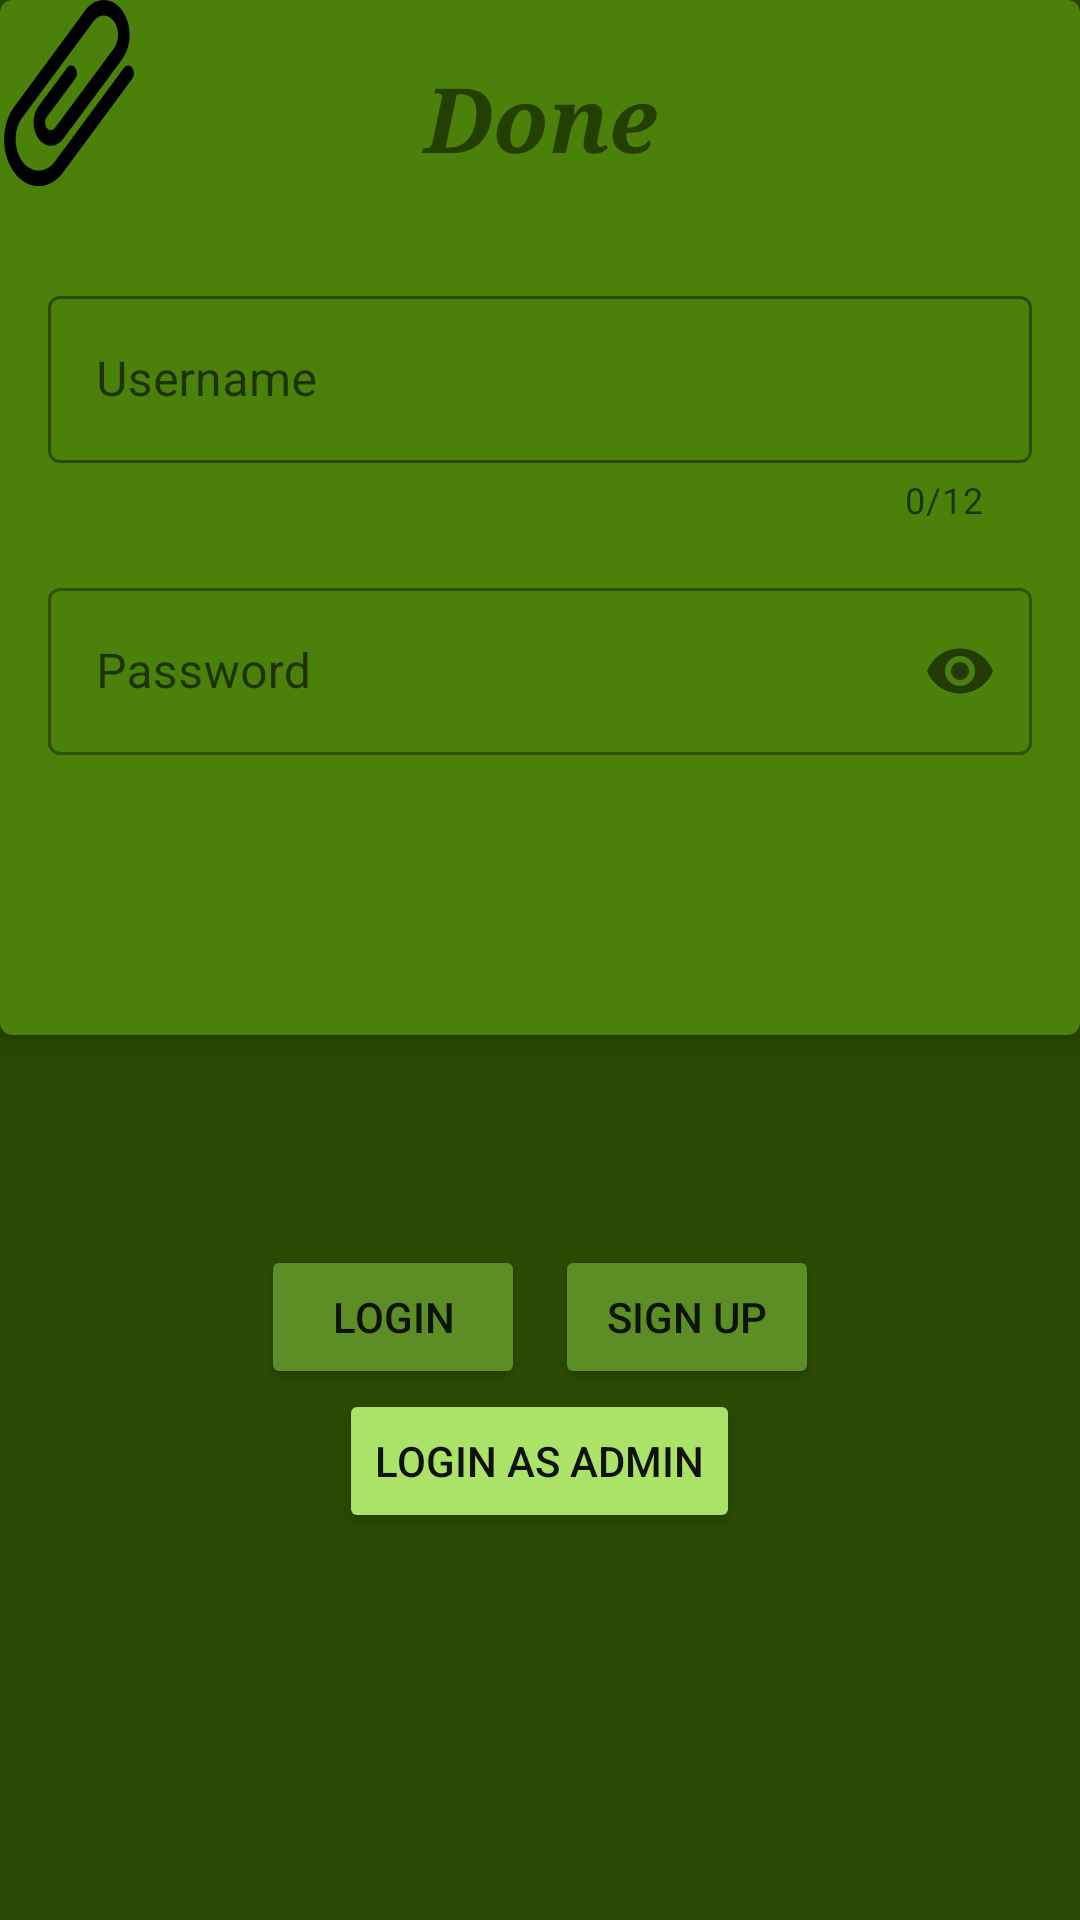

Locate icon controls on the screen. Image size 1080 x 1920, boxes as {"left": x1, "top": y1, "right": x2, "bottom": y2}.
paper clip: {"left": 0, "top": 0, "right": 134, "bottom": 186}
